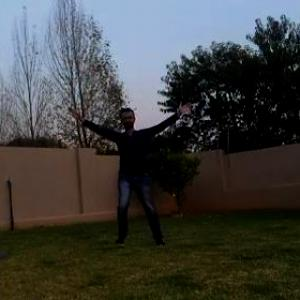takeoff: (82, 93, 200, 250)
